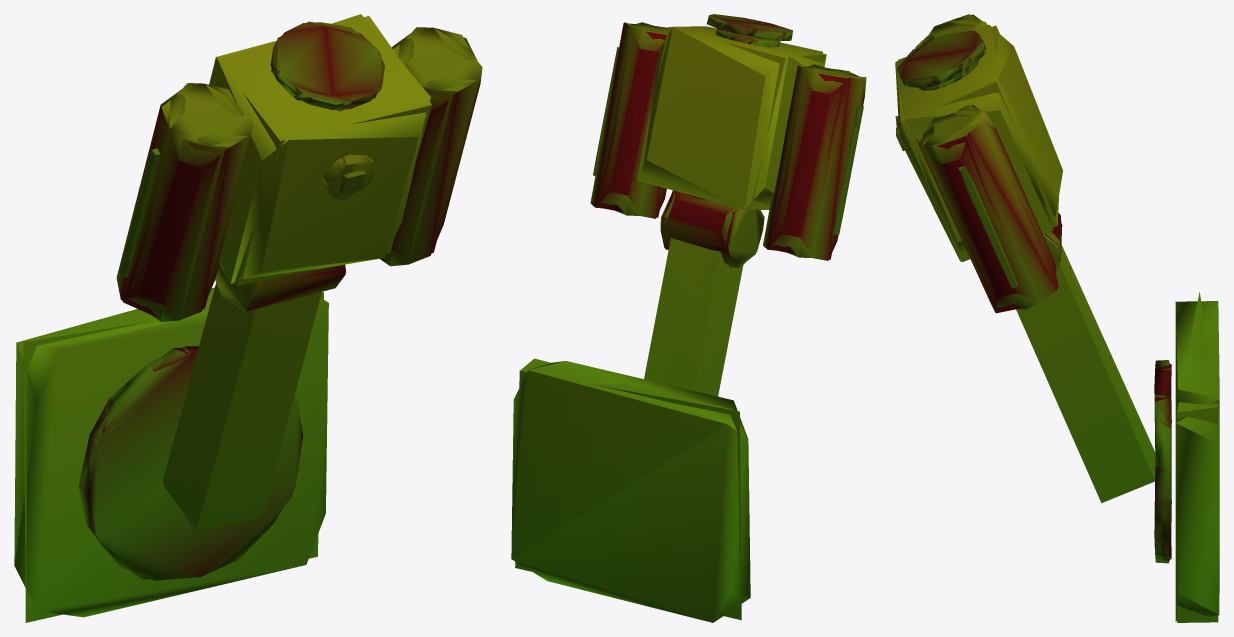
File: RCLModule_field_medic_rover_nanite_repair_chitin_LODs.fbx
The picture shows the model from 3 angles, left to right: view 1: azimuth 30°, elevation 25°; view 2: azimuth 150°, elevation 25°; view 3: azimuth 270°, elevation 25°; orthographic projection. The views are drawn at different scales.
Visible parts, largest first — view 1: LOD1_RCLModule_field_medic_rover_nanite_repair_chitin_Batch_ (×3), LOD2_RCLModule_field_medic_rover_nanite_repair_chitin_Batch_ (×3); view 2: LOD1_RCLModule_field_medic_rover_nanite_repair_chitin_Batch_ (×3), LOD2_RCLModule_field_medic_rover_nanite_repair_chitin_Batch_ (×3); view 3: LOD1_RCLModule_field_medic_rover_nanite_repair_chitin_Batch_ (×3), LOD2_RCLModule_field_medic_rover_nanite_repair_chitin_Batch_ (×3).
Boxes of the visible parts, x1,y1,x2,y2 form: LOD1_RCLModule_field_medic_rover_nanite_repair_chitin_Batch_ (×3): (14,14,482,617); LOD2_RCLModule_field_medic_rover_nanite_repair_chitin_Batch_ (×3): (23,16,477,622); LOD1_RCLModule_field_medic_rover_nanite_repair_chitin_Batch_ (×3): (511,14,866,622); LOD2_RCLModule_field_medic_rover_nanite_repair_chitin_Batch_ (×3): (515,15,862,620); LOD1_RCLModule_field_medic_rover_nanite_repair_chitin_Batch_ (×3): (895,14,1219,621); LOD2_RCLModule_field_medic_rover_nanite_repair_chitin_Batch_ (×3): (895,14,1218,622).
Bounding box in the file's own units: 28.93 × 56.43 × 31.03.
